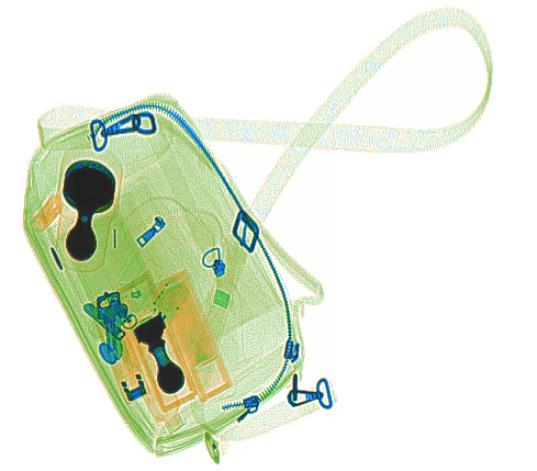seal: (61, 157, 116, 262), (130, 314, 185, 393)
